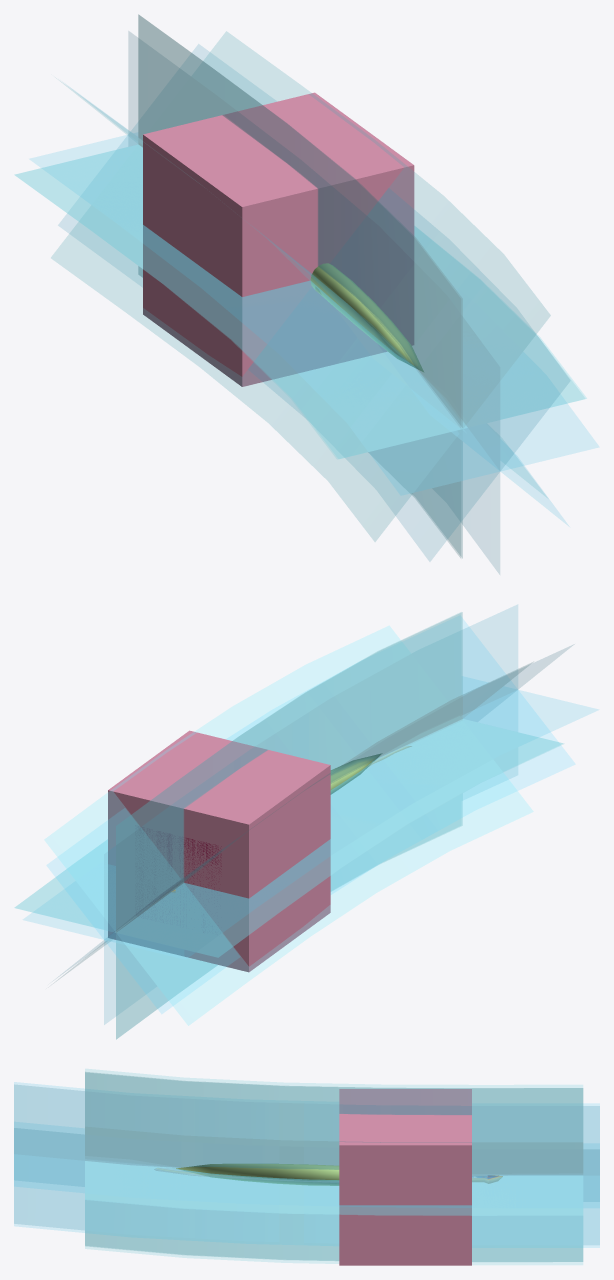
3 renders of one model, top to bottom at view 1: azimuth 30°, elevation 25°; view 2: azimuth 150°, elevation 25°; view 3: azimuth 270°, elevation 25°, orthographic. The views are drawn at different scales.
Visible parts, largest first — view 1: object0033_Plane05, object0018_Plane03, object0044_Plane08, object0104_Box, "object0092_Editable Poly"; view 2: object0033_Plane05, object0018_Plane03, object0044_Plane08, object0104_Box, object0107_Box, "object0092_Editable Poly"; view 3: object0044_Plane08, object0018_Plane03, object0033_Plane05, object0104_Box, "object0092_Editable Poly", object0005_W241.
Boxes of the visible parts, x1=… form: object0033_Plane05: x1=15, y1=15, x2=586, y2=557; object0018_Plane03: x1=15, y1=15, x2=584, y2=557; object0044_Plane08: x1=30, y1=32, x2=598, y2=573; object0104_Box: x1=143, y1=92, x2=414, y2=386; "object0092_Editable Poly": x1=310, y1=263, x2=423, y2=371; object0033_Plane05: x1=15, y1=612, x2=561, y2=1038; object0018_Plane03: x1=15, y1=612, x2=563, y2=1038; object0044_Plane08: x1=23, y1=605, x2=597, y2=1024; object0104_Box: x1=108, y1=730, x2=330, y2=972; object0107_Box: x1=135, y1=825, x2=221, y2=932; "object0092_Editable Poly": x1=330, y1=753, x2=381, y2=794; object0044_Plane08: x1=14, y1=1082, x2=599, y2=1247; object0018_Plane03: x1=85, y1=1069, x2=582, y2=1264; object0033_Plane05: x1=85, y1=1072, x2=582, y2=1261; object0104_Box: x1=339, y1=1089, x2=471, y2=1265; "object0092_Editable Poly": x1=176, y1=1163, x2=339, y2=1185; object0005_W241: x1=154, y1=1168, x2=502, y2=1183.
Bounding box in the file's own units: 1.45 × 1.21 × 3.69.
